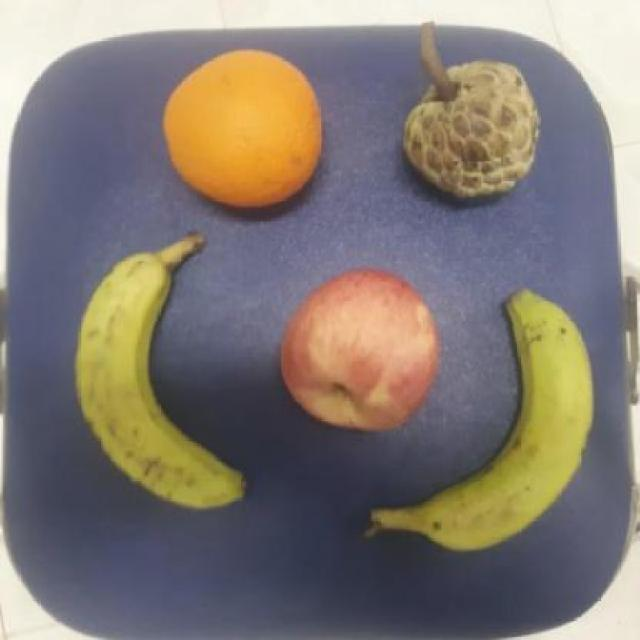apple: (274, 262, 445, 442)
banana: (365, 286, 599, 557), (71, 233, 248, 515)
oren: (160, 47, 325, 211)
sugar apple: (388, 56, 544, 210)
